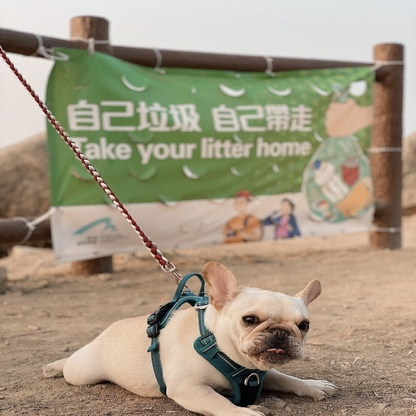bulldog: (40, 256, 328, 416)
